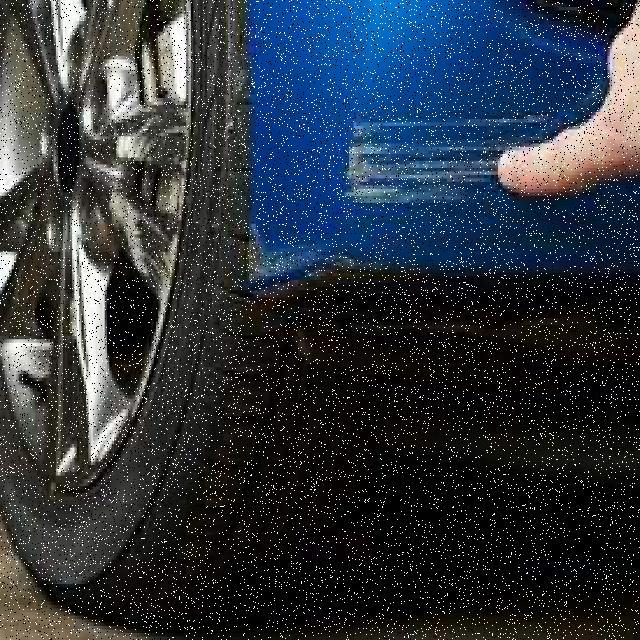front-bumper-dent: (165, 0, 638, 339)
